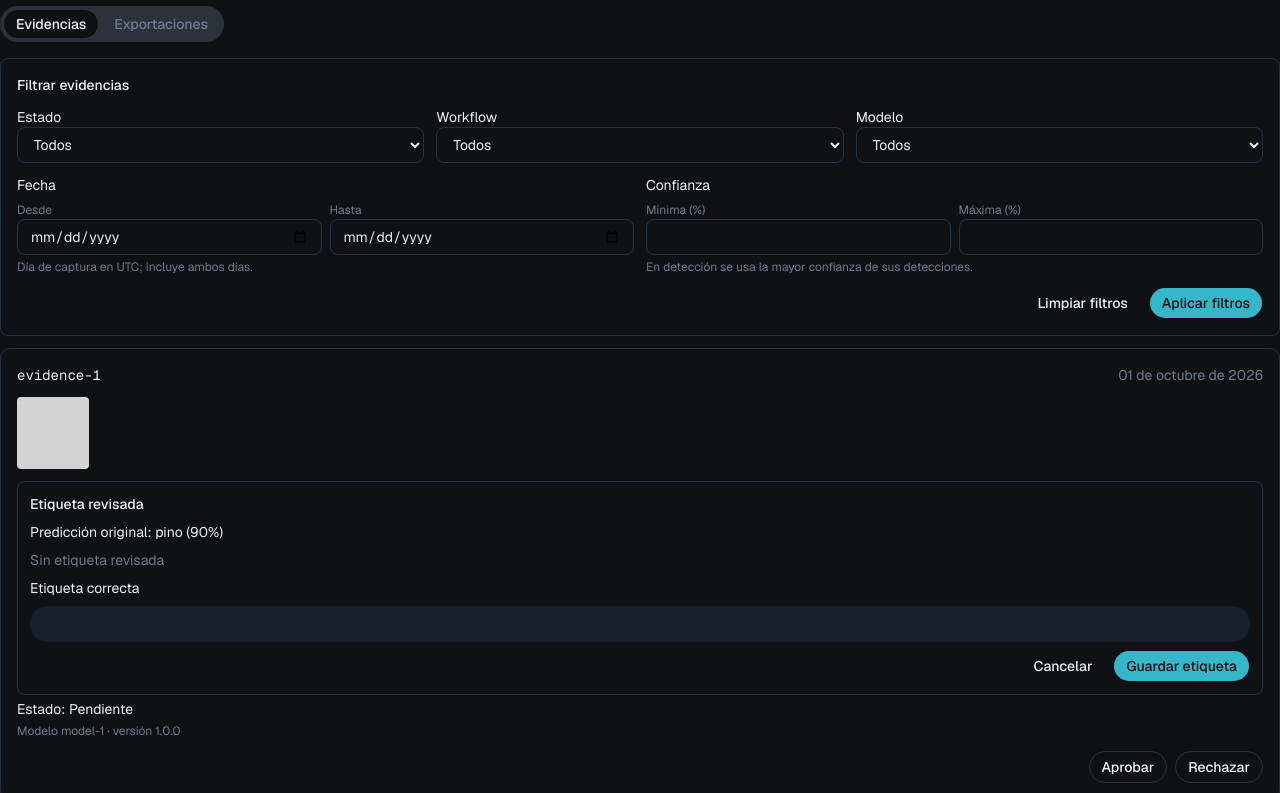
Test case: DatasetDetailView › shows the image and lets a workspace member reject evidence with an optional reason
(page scrolled)
Expected: the text "Estado: Pendiente" is shown, 17,700 -> 133,718
Click the button "Rechazar" at x=1219, y=767, box 1175,751 -> 1263,783
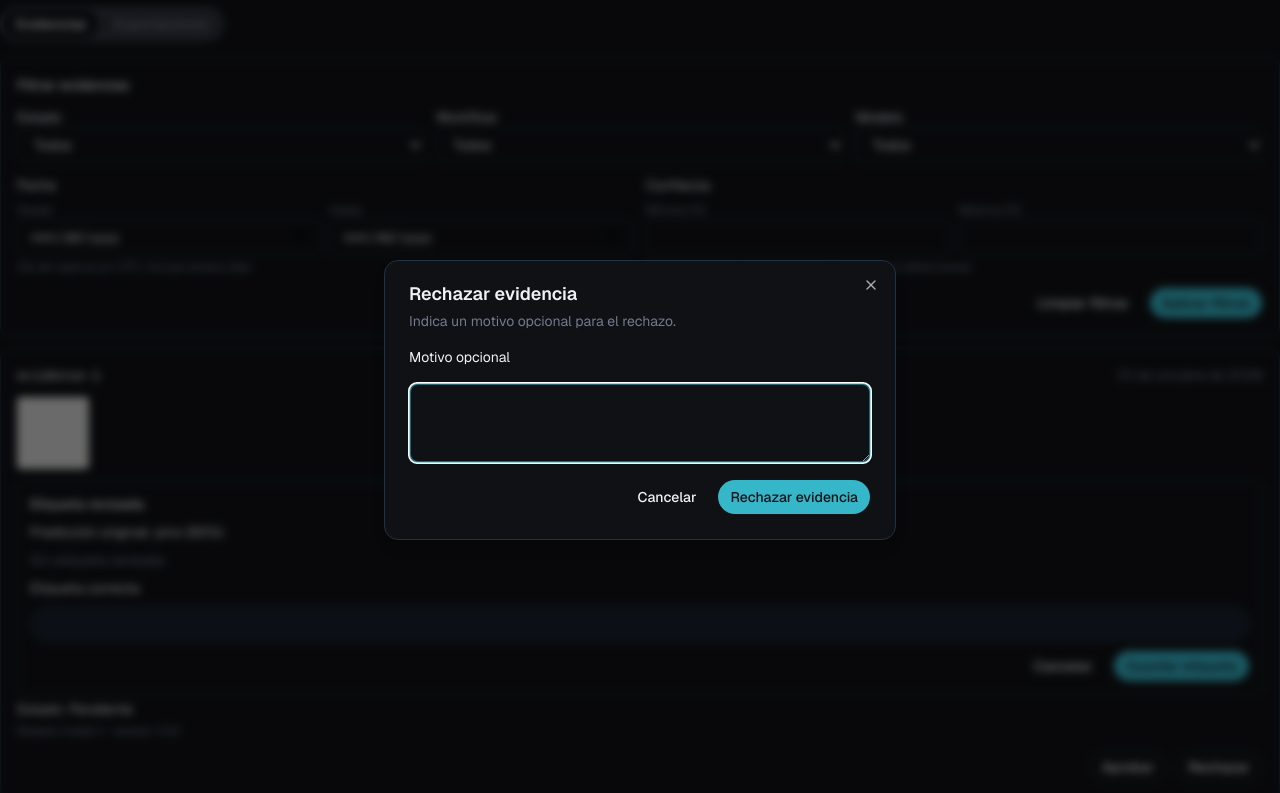
Type "Imagen borrosa" into the text box labelled "Motivo opcional" at x=640, y=423, box 409,383 -> 871,463
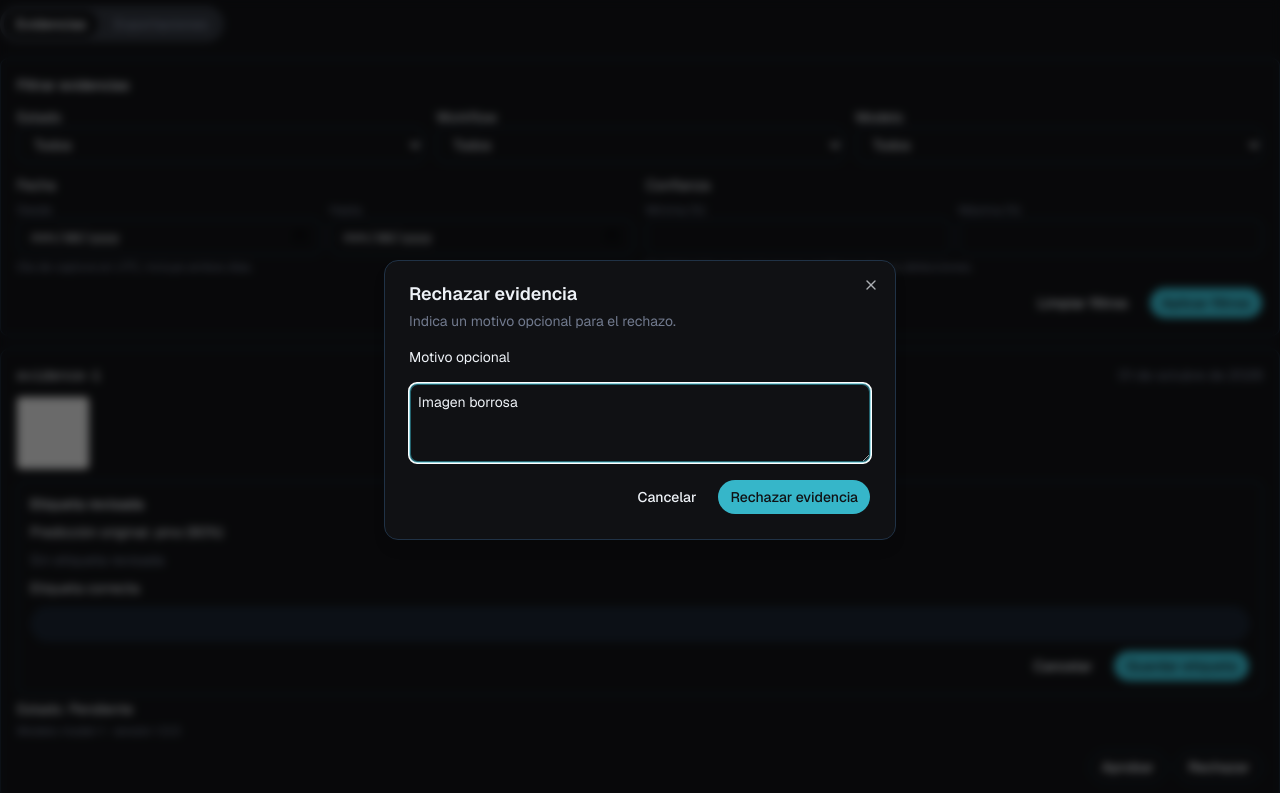
Click the button "Rechazar evidencia" at x=794, y=497, box 718,479 -> 871,515
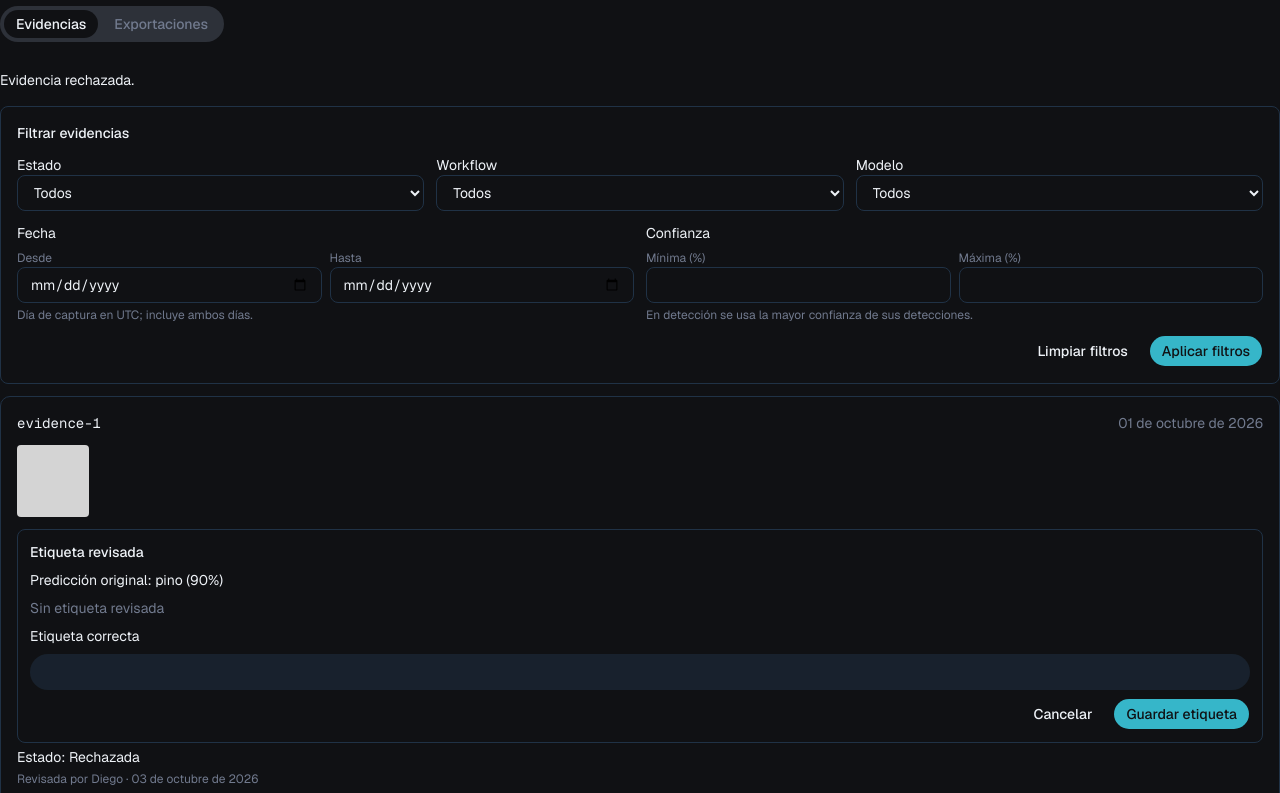
Now the text "Estado: Rechazada" is shown, box 17,748 -> 140,766
Now the text "Evidencia rechazada." is shown, box 0,71 -> 134,89
Now the text "Revisada por Diego" is shown, box 17,771 -> 258,787
